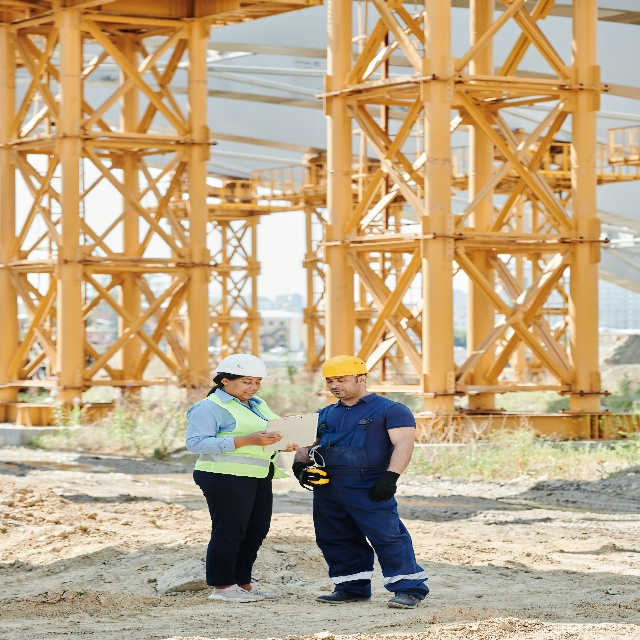Gafas: (309, 444, 325, 469)
Guantes: (367, 470, 403, 502), (293, 461, 320, 487)
Sin_guantes: (249, 429, 285, 446), (283, 442, 299, 456)
